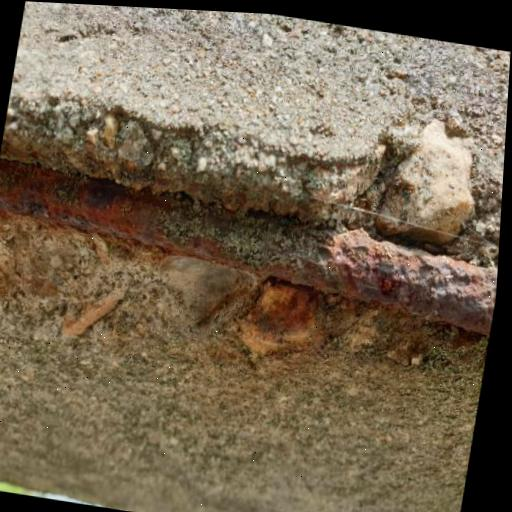exposed_rebar: (0, 160, 498, 335)
